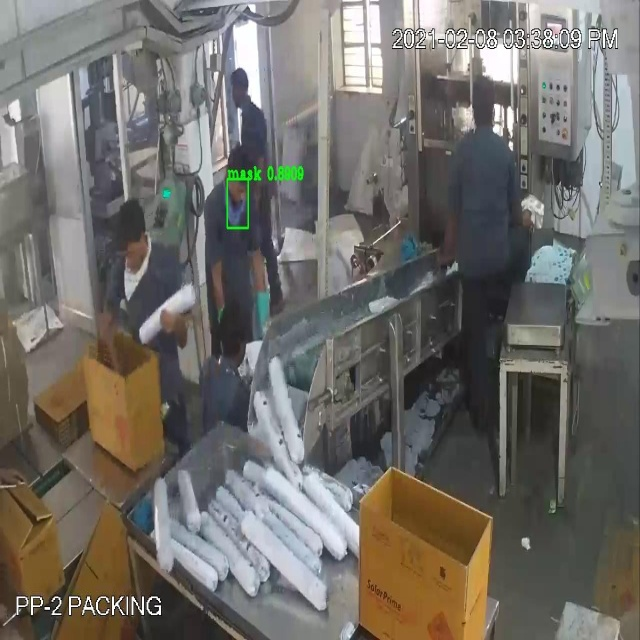Sin_guantes: (91, 296, 142, 404), (151, 289, 194, 366)
